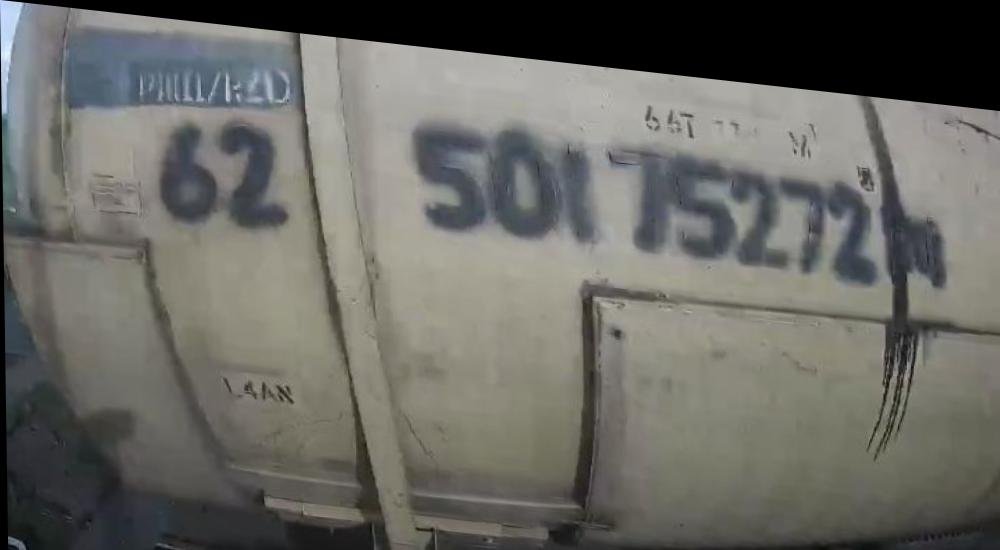Wagon-number: (401, 102, 888, 278)
